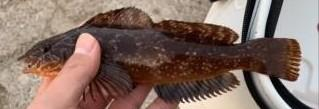fish: (19, 7, 301, 105)
